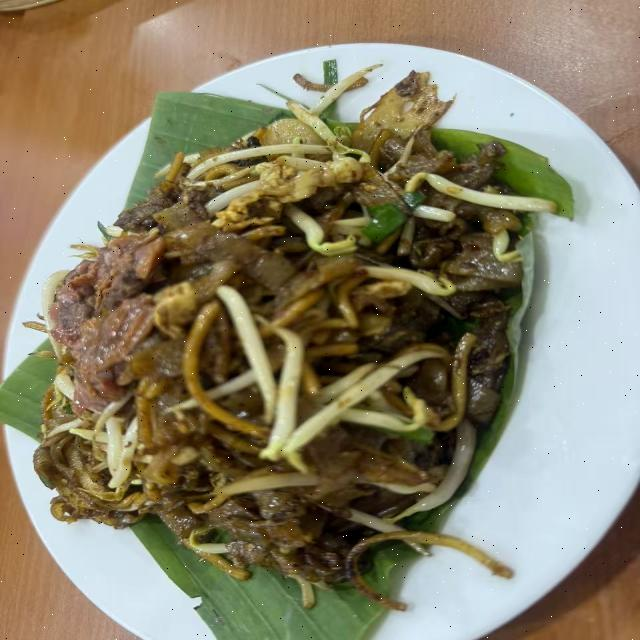Char Kway Teow: (24, 88, 554, 600)
